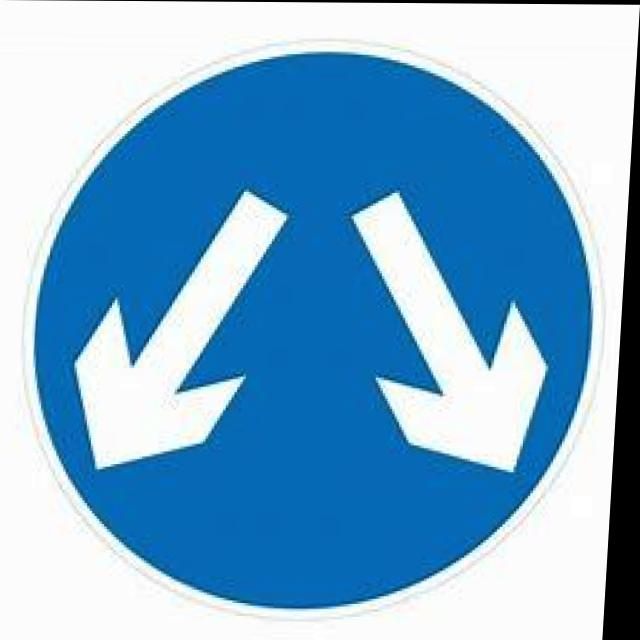PASS_EITHER_SIDE: (12, 34, 620, 622)
